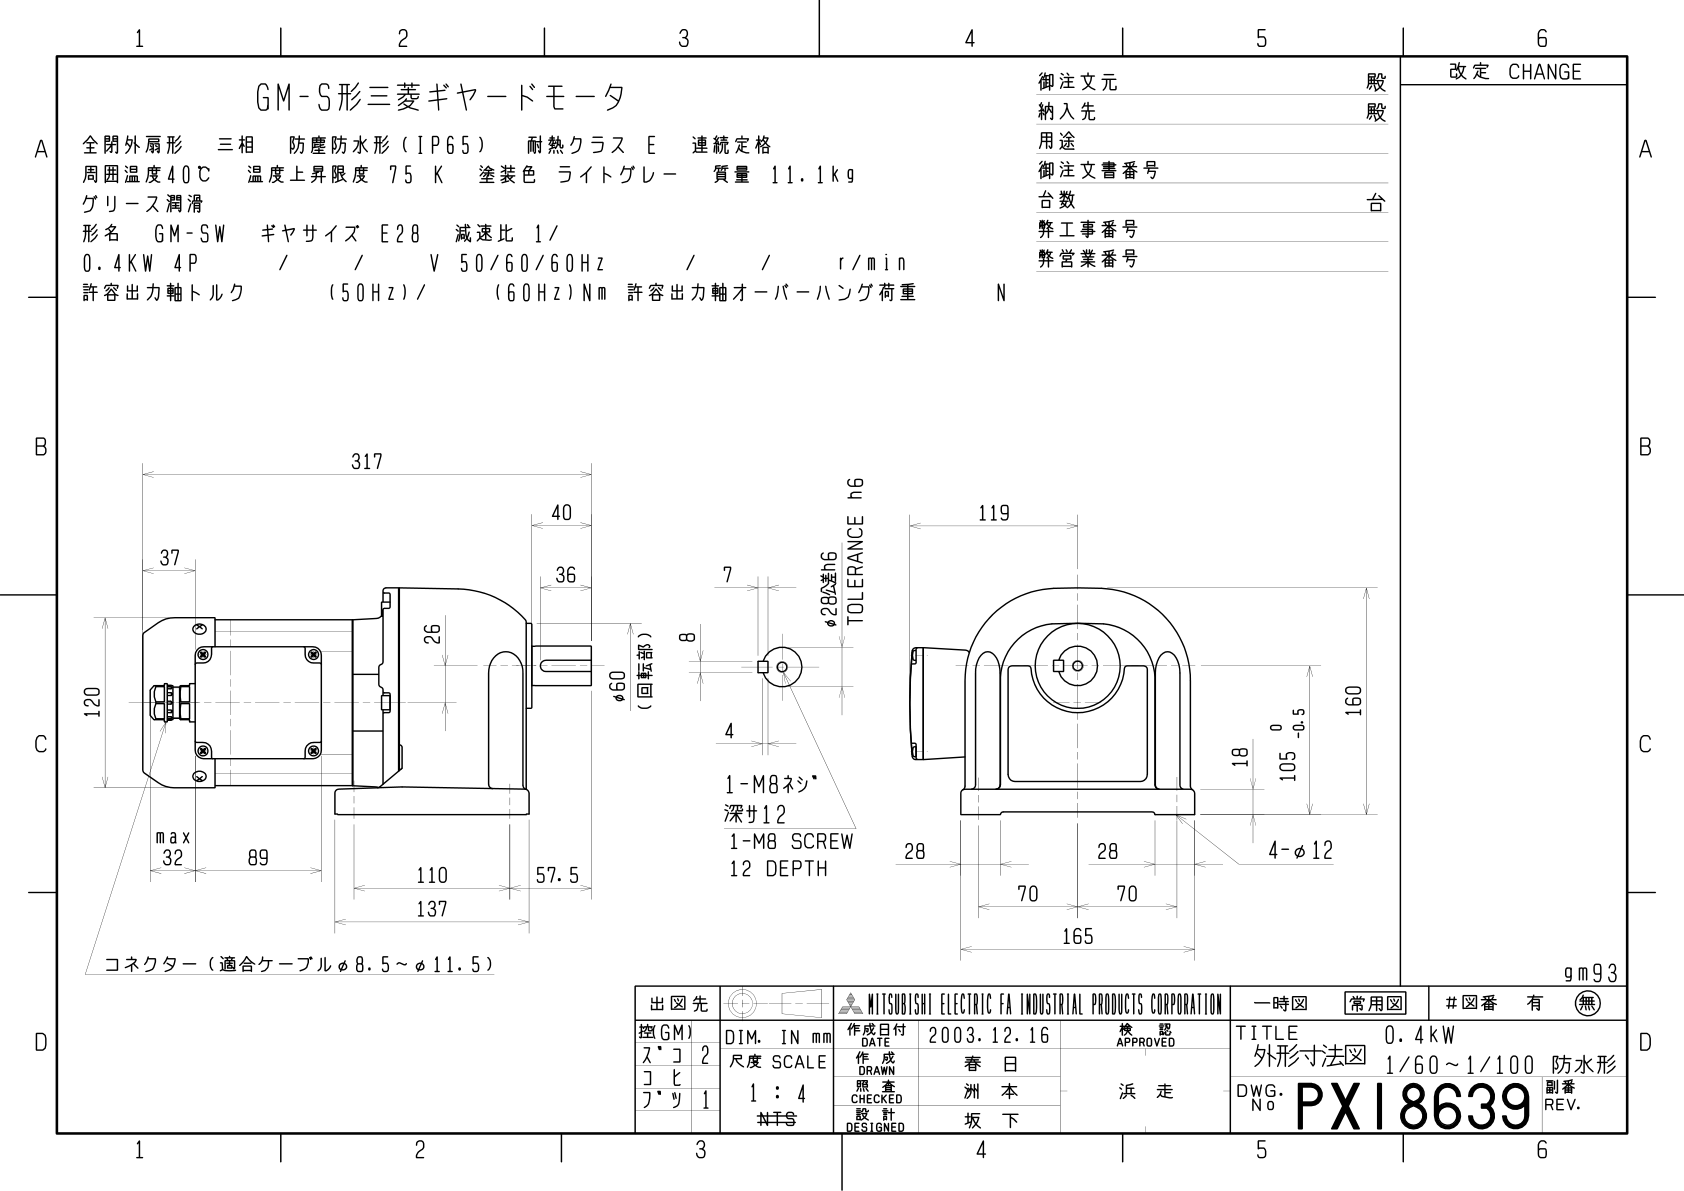GM_S_IP65＿三相_脚: (70, 427, 1393, 974)
